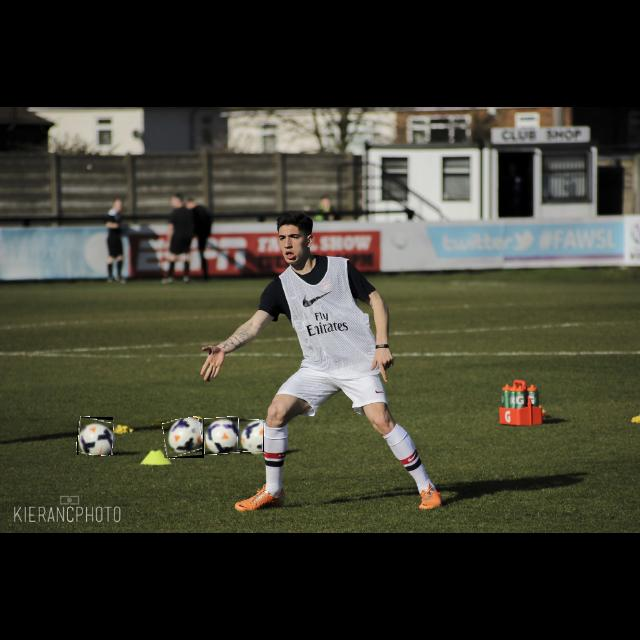Football: (164, 418, 204, 458), (77, 417, 113, 455), (204, 418, 240, 454), (238, 420, 264, 452)
